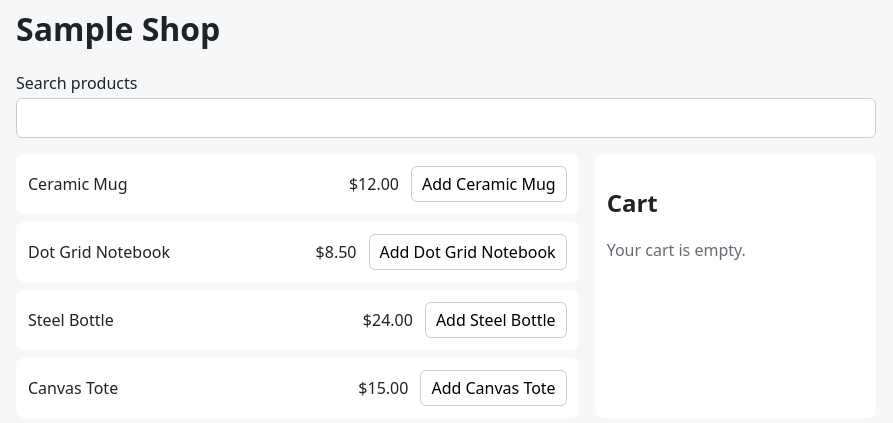
Test: App › shows a message when nothing matches
Type "zzz" into the search field labelled "Search products" at [446, 118], box x1=16 y1=98 x2=876 y2=138
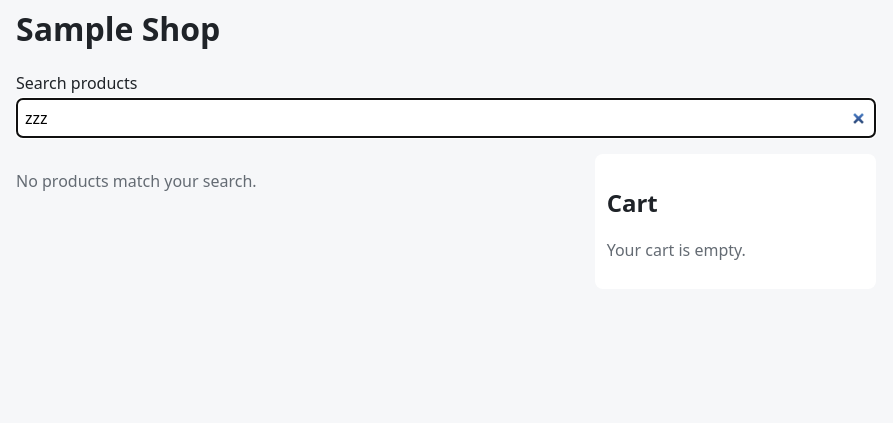
Expected: the text "No products match your search." is shown, x1=16 y1=170 x2=257 y2=192
